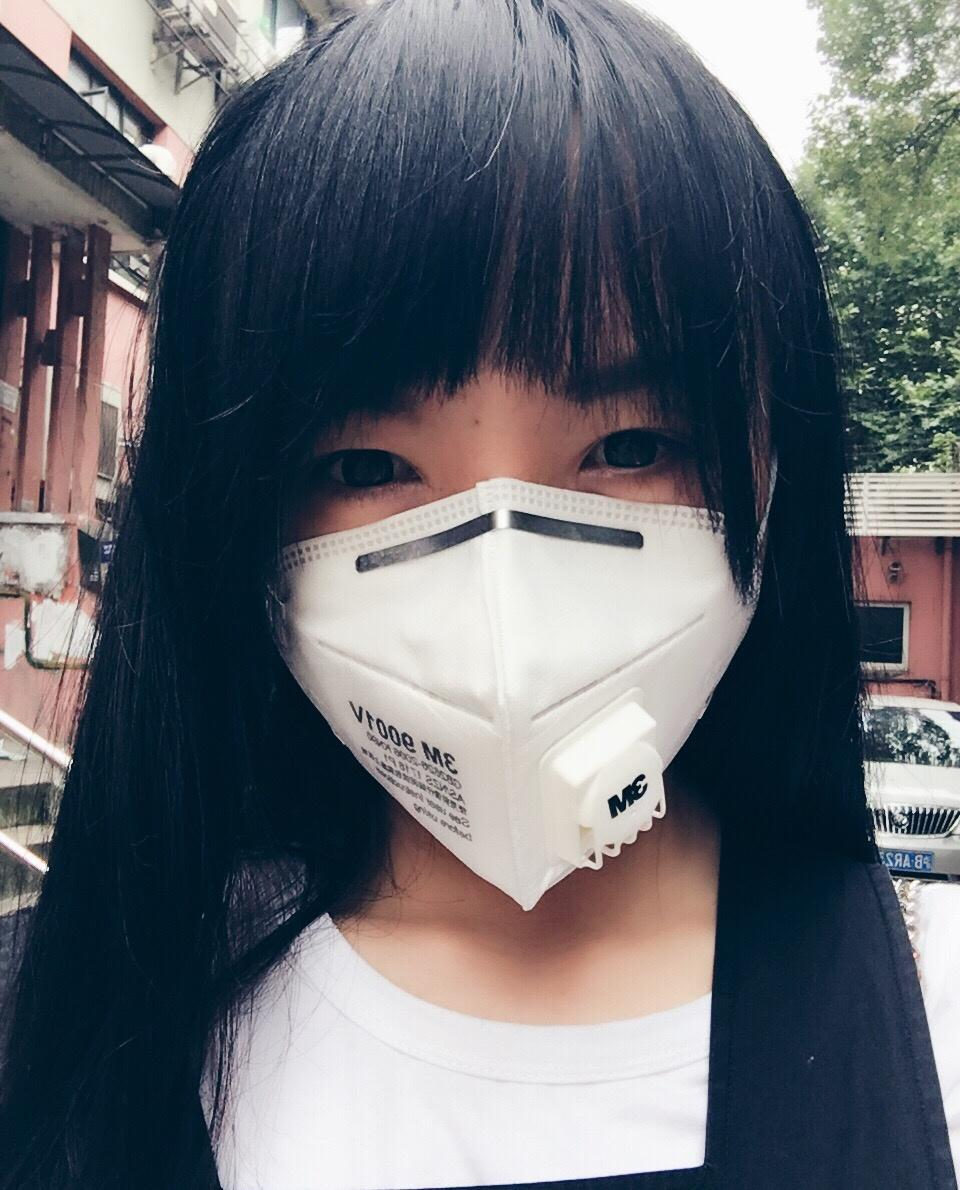OK: (229, 342, 797, 910)
